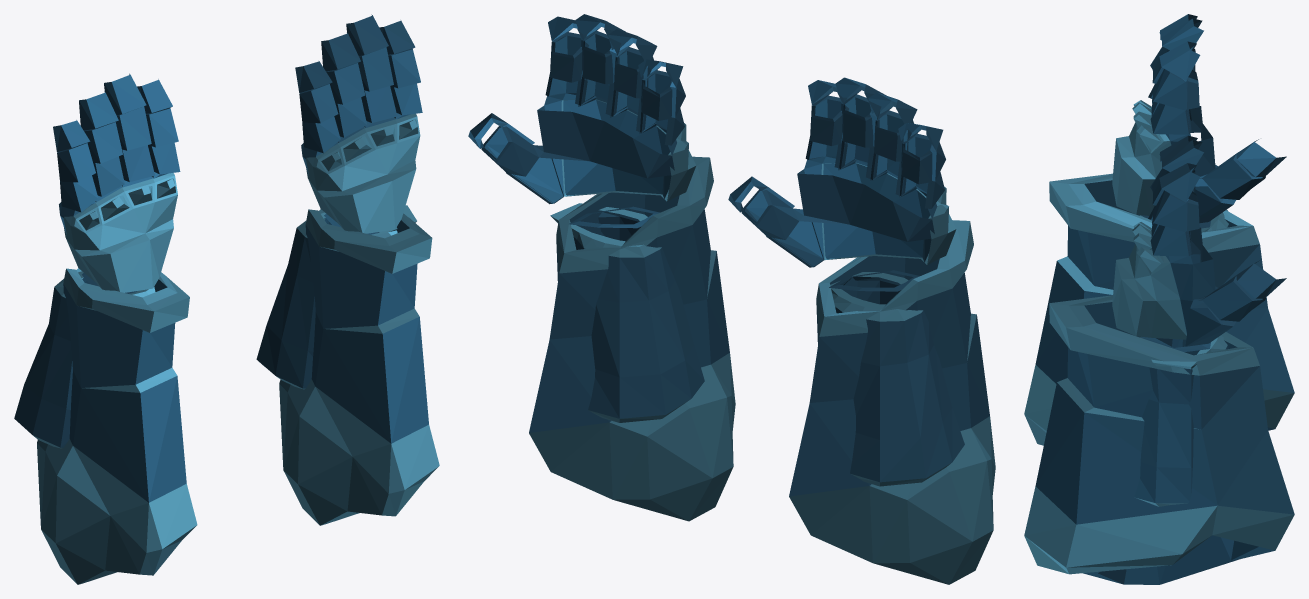
Rendered from rune_hands.glb.
3 views of the same model, side by side, from view 1: azimuth 30°, elevation 25°; view 2: azimuth 150°, elevation 25°; view 3: azimuth 270°, elevation 25° (orthographic). The views are drawn at different scales.
Parts seen in each view (by area): view 1: rune_hands; view 2: rune_hands; view 3: rune_hands.
Part boxes in pixels (<box>): rune_hands: <box>14,14,439,584</box>; rune_hands: <box>468,14,995,584</box>; rune_hands: <box>1024,14,1294,584</box>.
Bounding box in the file's own units: 0.951 × 1 × 0.514.
